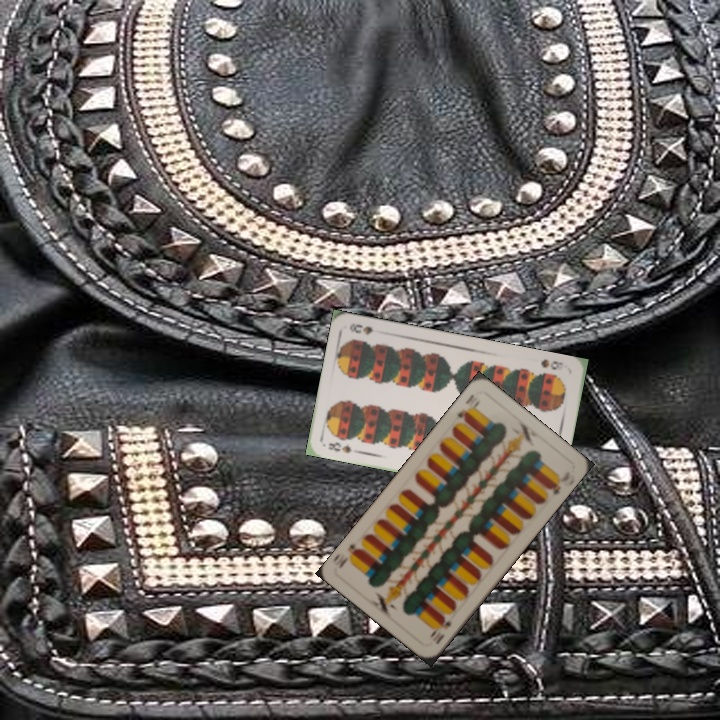E10: (453, 390, 483, 423), (426, 613, 454, 647)
S8: (324, 438, 354, 456), (537, 355, 566, 372)
